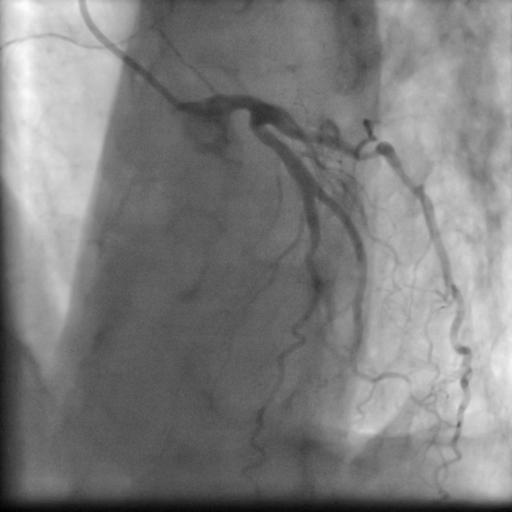Stenosis: (354, 138, 383, 166)
